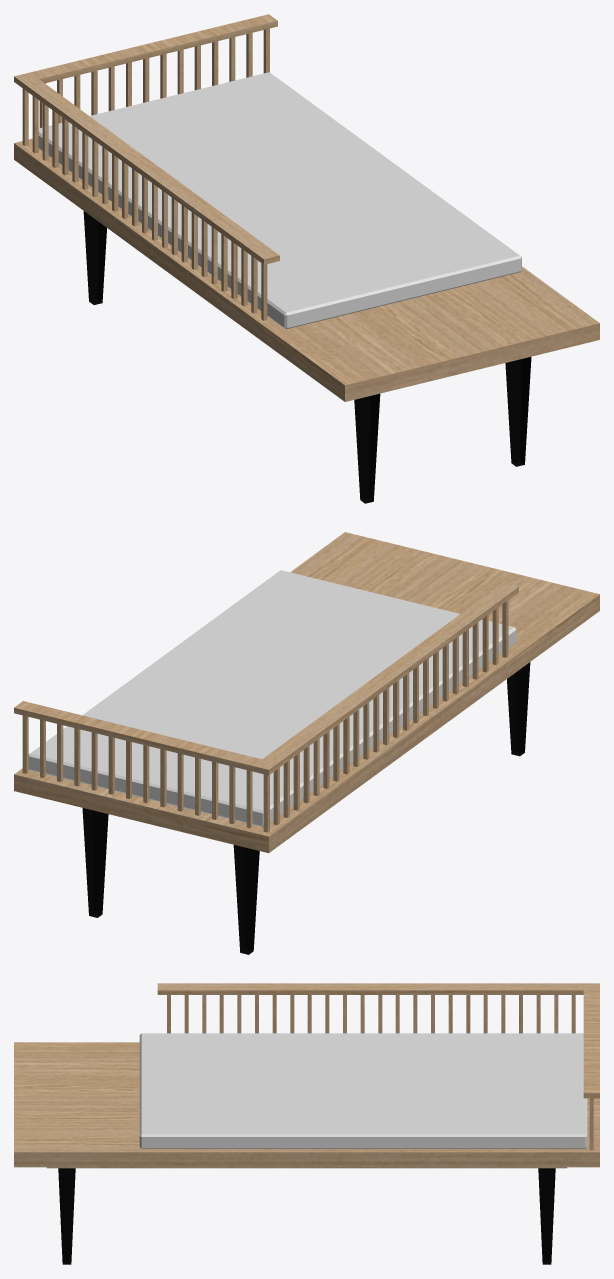
File: Bed 1.glb
The picture shows the model from 3 angles, top to bottom: view 1: azimuth 30°, elevation 25°; view 2: azimuth 150°, elevation 25°; view 3: azimuth 270°, elevation 25°; orthographic projection. The views are drawn at different scales.
Parts seen in each view (by area): view 1: Bed 1; view 2: Bed 1; view 3: Bed 1.
Part boxes in pixels (left/top/right/bottom): Bed 1: left=14, top=14, right=599, bottom=503; Bed 1: left=14, top=532, right=599, bottom=954; Bed 1: left=14, top=983, right=599, bottom=1264.
Size of what is drawn, in the model's own units: 1.22 by 0.9906 by 2.74.
2 materials, 2 textured.
